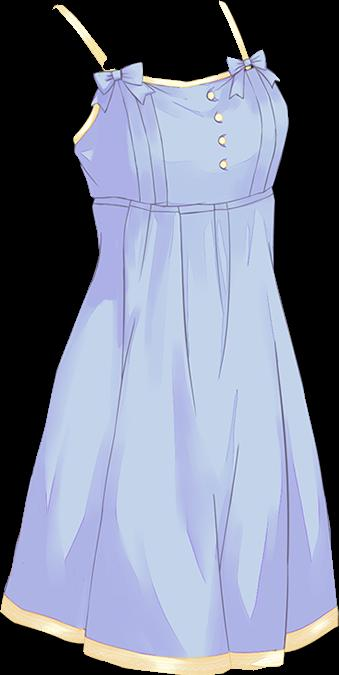Bodice: (53, 1, 288, 209)
Hemline: (0, 606, 338, 674)
Neckline: (61, 0, 247, 81)
Skirt: (1, 195, 337, 674)
Waistline: (91, 192, 274, 214)
